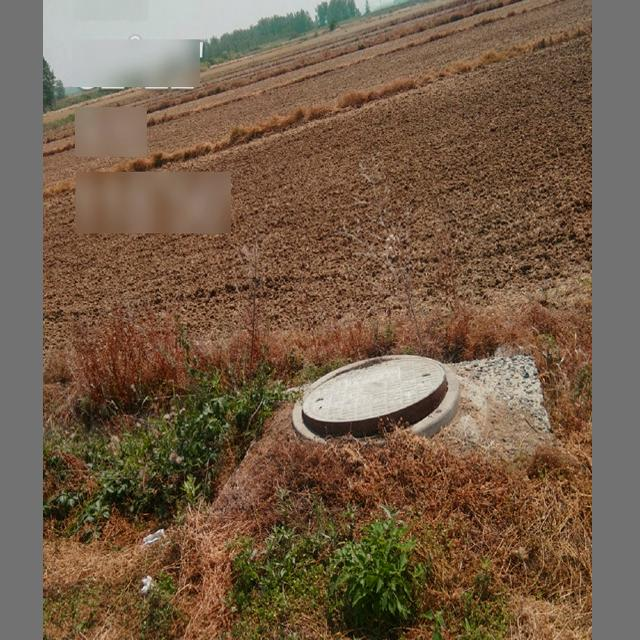uncovered: (292, 354, 458, 442)
